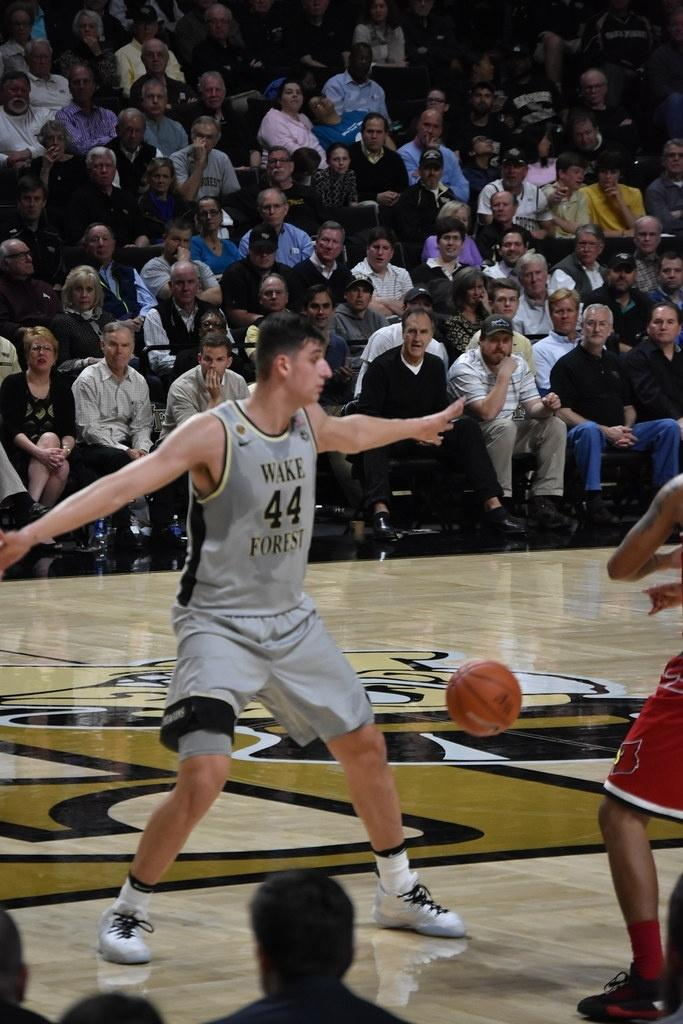basketball-player: (0, 308, 473, 965), (576, 442, 683, 1024)
